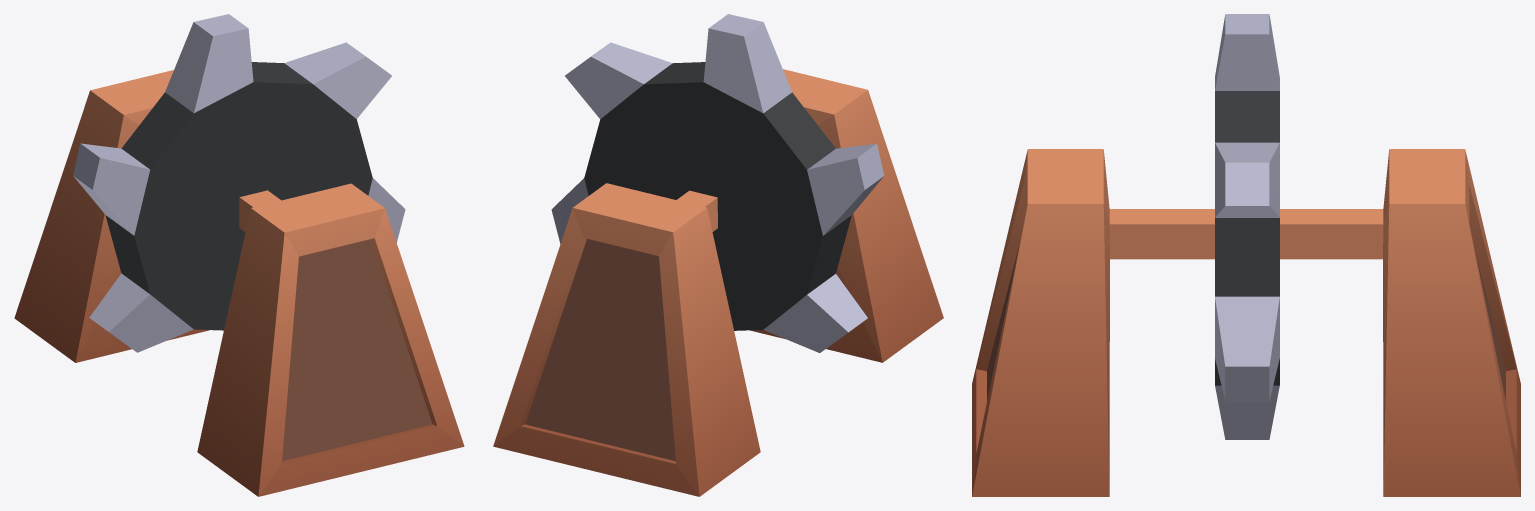
File: Miner.fbx
The picture shows the model from 3 angles, left to right: view 1: azimuth 30°, elevation 25°; view 2: azimuth 150°, elevation 25°; view 3: azimuth 270°, elevation 25°; orthographic projection. The views are drawn at different scales.
Parts seen in each view (by area): view 1: Cube, Cylinder; view 2: Cube, Cylinder; view 3: Cube, Cylinder.
Part boxes in pixels (x1,y1,x2,y2): Cube: (14,70,464,496); Cylinder: (73,14,405,352); Cube: (493,69,943,496); Cylinder: (551,14,884,352); Cube: (972,149,1520,496); Cylinder: (1215,14,1279,439).
Size of the model in its own units: 66.14 by 73.07 by 89.36.
